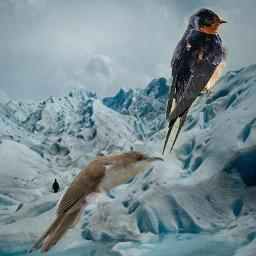Cuckoo: (27, 150, 164, 253)
Swallow: (158, 6, 228, 156)
